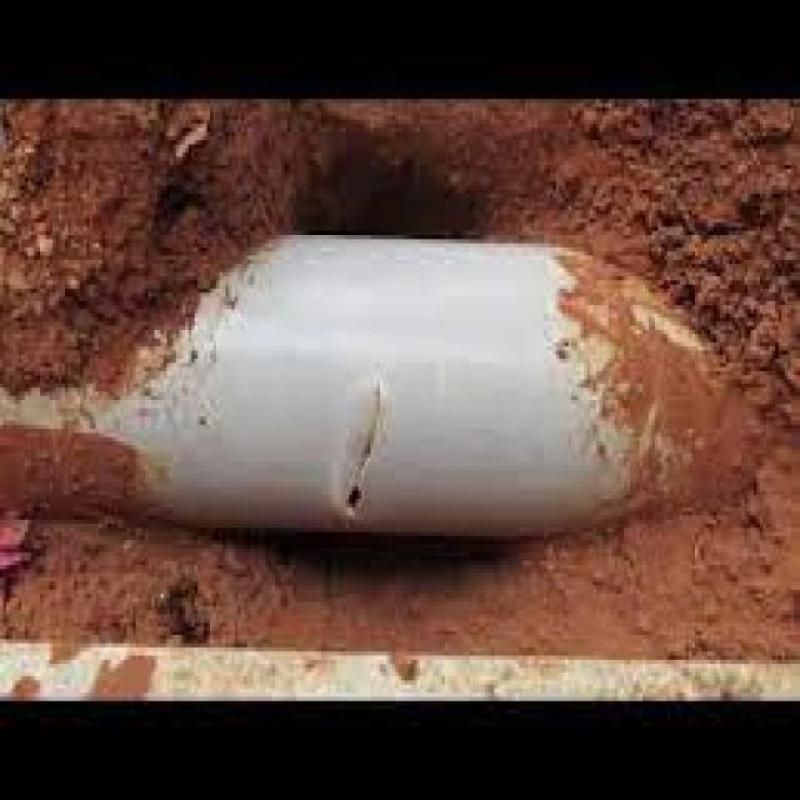Fracture: (345, 392, 380, 530)
